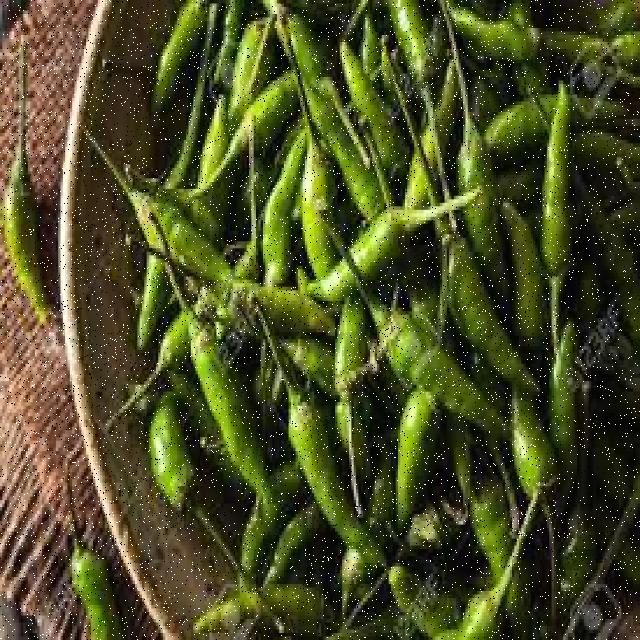Chili Pepper: (268, 389, 384, 598), (165, 315, 274, 522), (206, 33, 340, 189), (0, 129, 60, 371), (530, 70, 584, 301), (56, 479, 123, 640), (294, 217, 430, 296), (386, 549, 501, 640)
